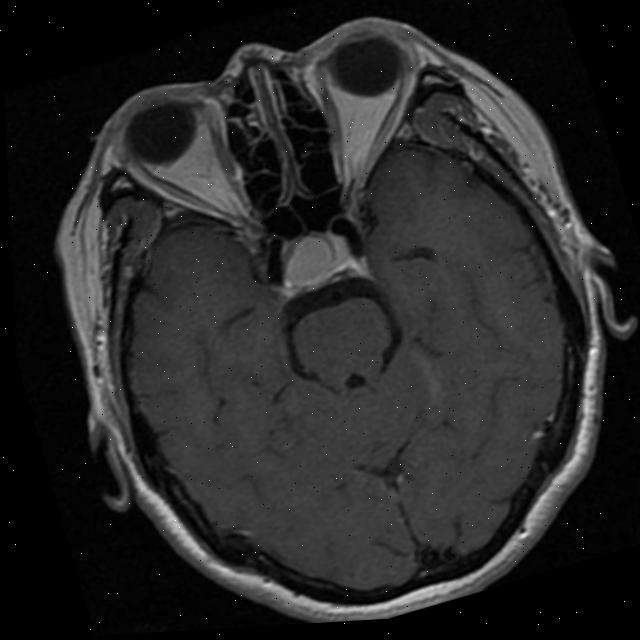Pituitary: (271, 223, 342, 292)
